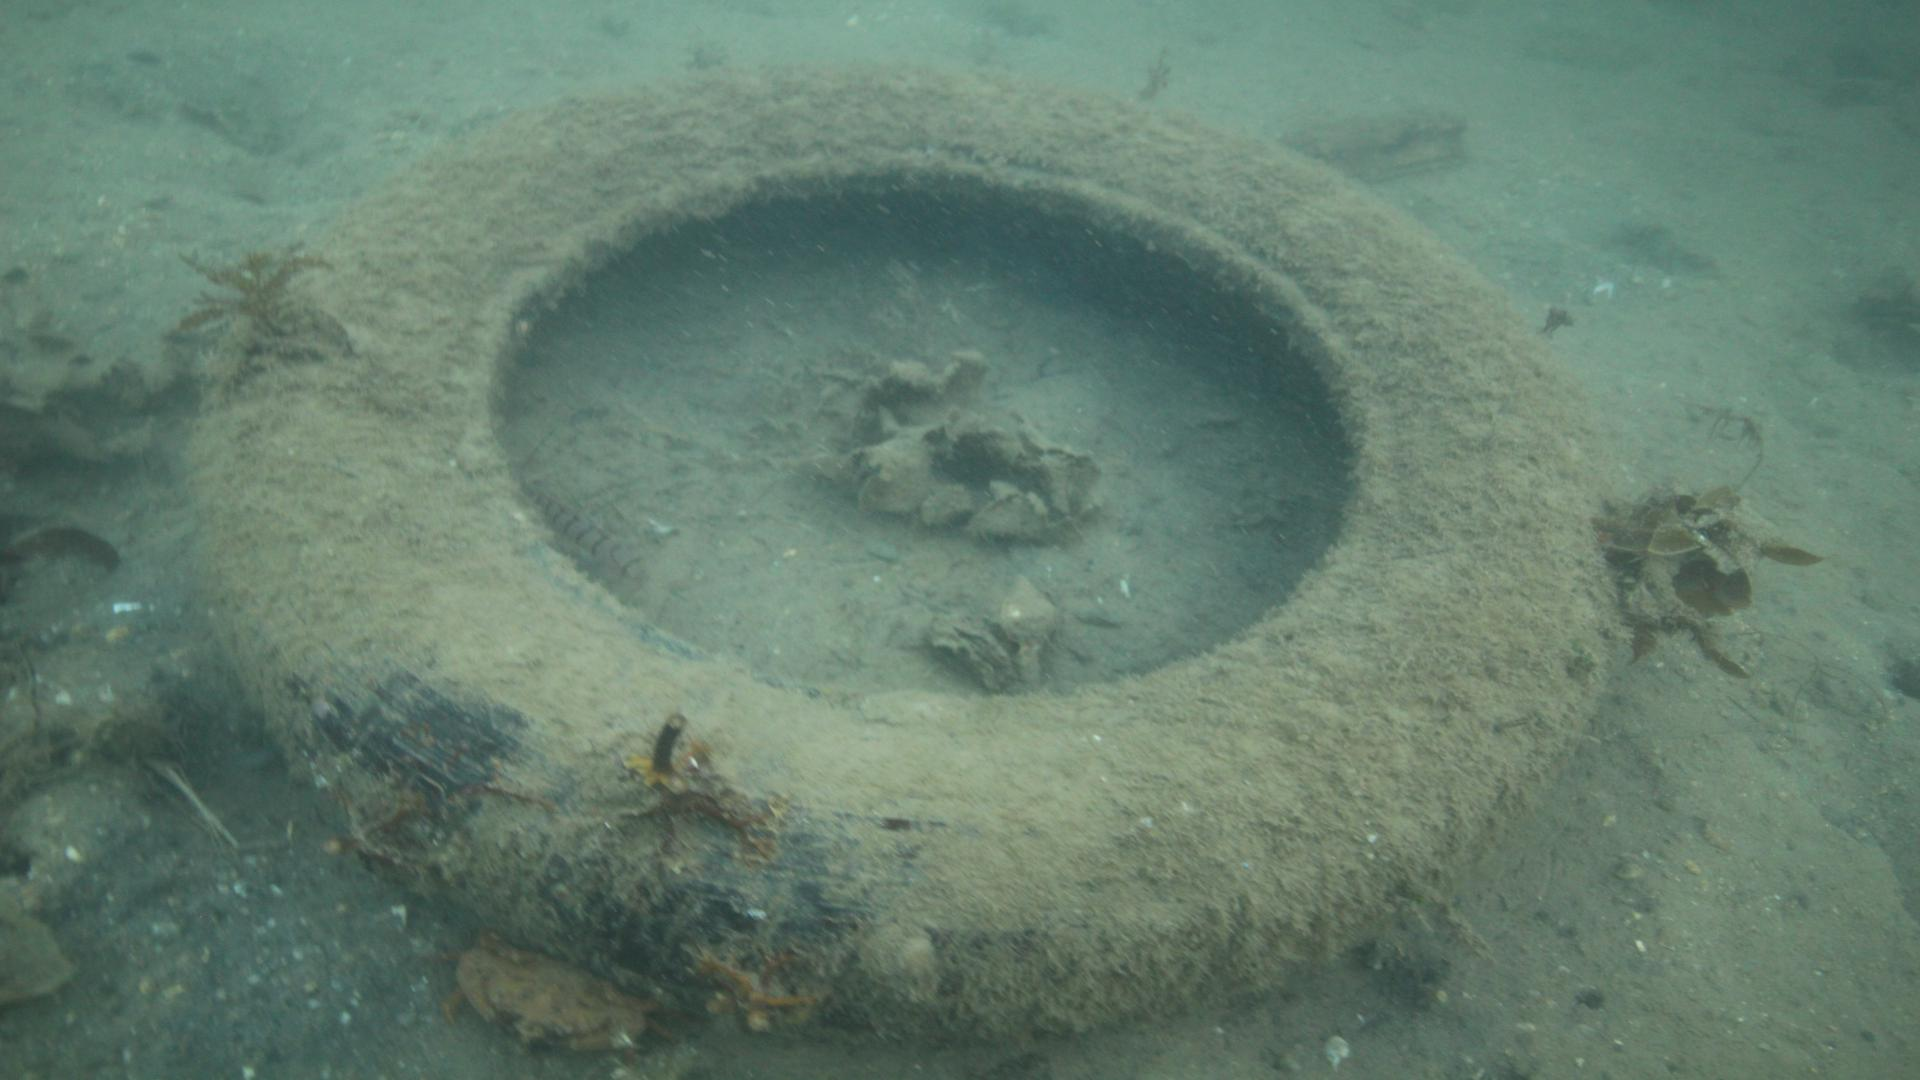tire: (189, 62, 1629, 1044)
